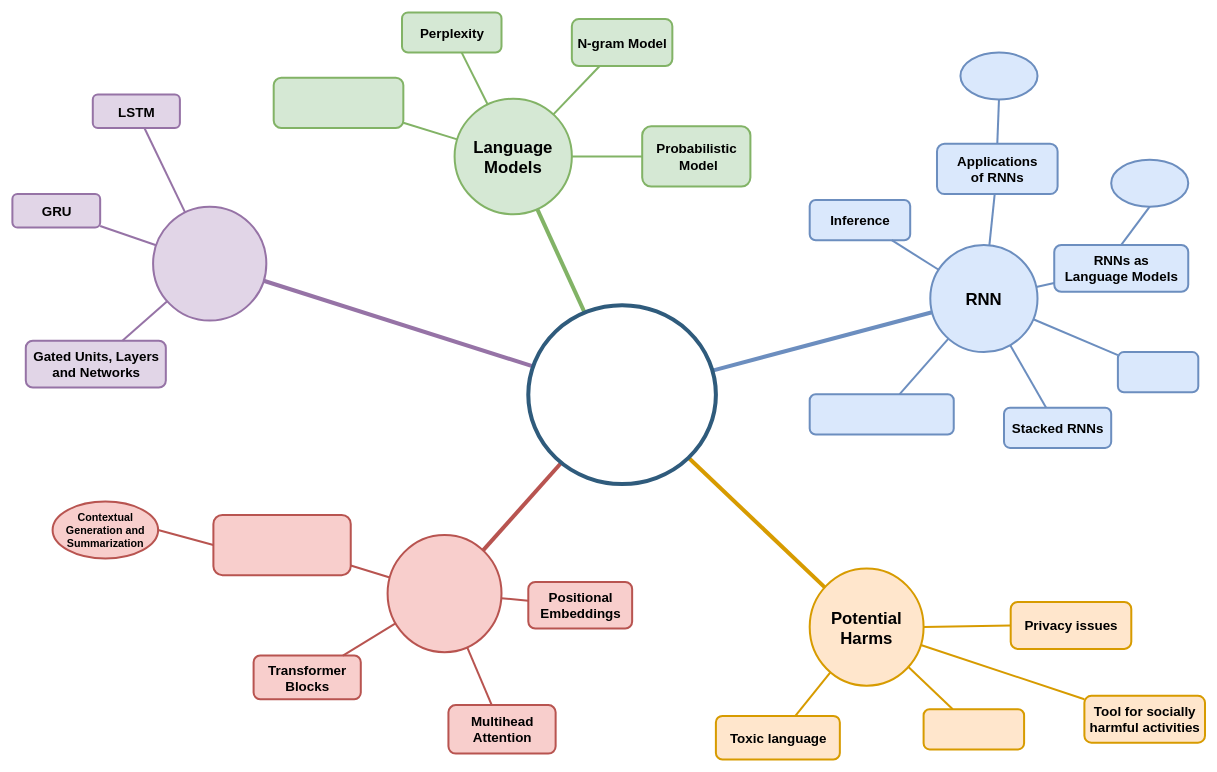
Image size: 1217x772. Some labels were removed from this diagram. The box of each missing label's shape, as (x1, y1, x2, y2) in pixels:
Autoregressive generation: (272, 76, 404, 129)
Autoregressive Language Models: (212, 514, 351, 576)
Biased Data: (922, 708, 1025, 750)
Bidirectional RNNs: (808, 393, 954, 435)
Deep Learning Architectures for Sequence Processing: (526, 303, 718, 486)
Generation: (1110, 158, 1189, 207)
Managing Context in RNNs: (152, 205, 267, 321)
Sequence Labeling: (959, 51, 1038, 100)
Training: (1117, 351, 1199, 393)
Transformers: (386, 534, 502, 653)
